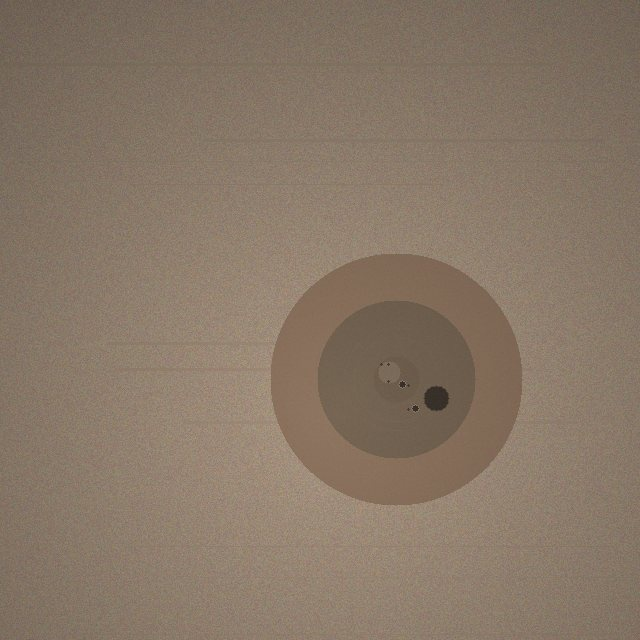shrinkage: (270, 253, 522, 505)
